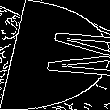M_W: (5, 29, 105, 81)
